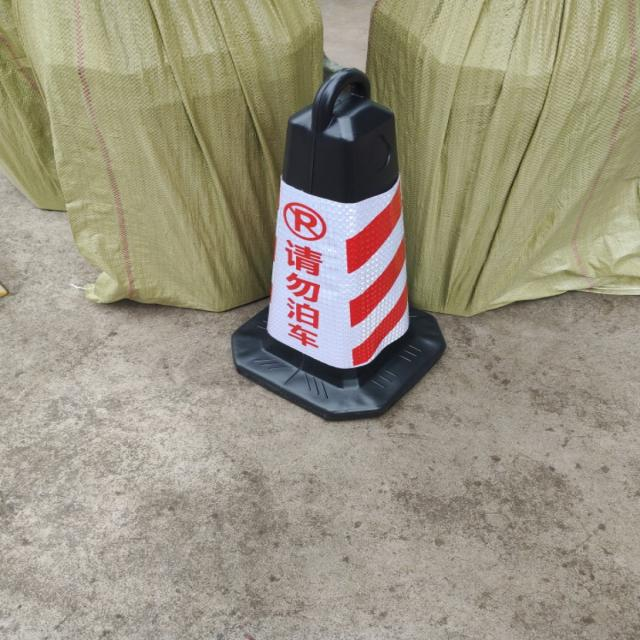reflective_cone: (227, 66, 450, 418)
